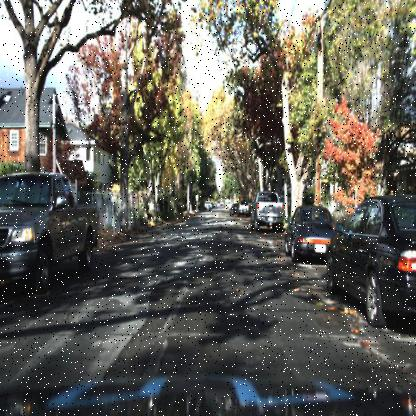car: (0, 169, 102, 293), (327, 190, 416, 320), (281, 198, 331, 272), (285, 202, 340, 260), (250, 189, 285, 236), (250, 191, 282, 228), (236, 198, 250, 220), (229, 202, 238, 215)
